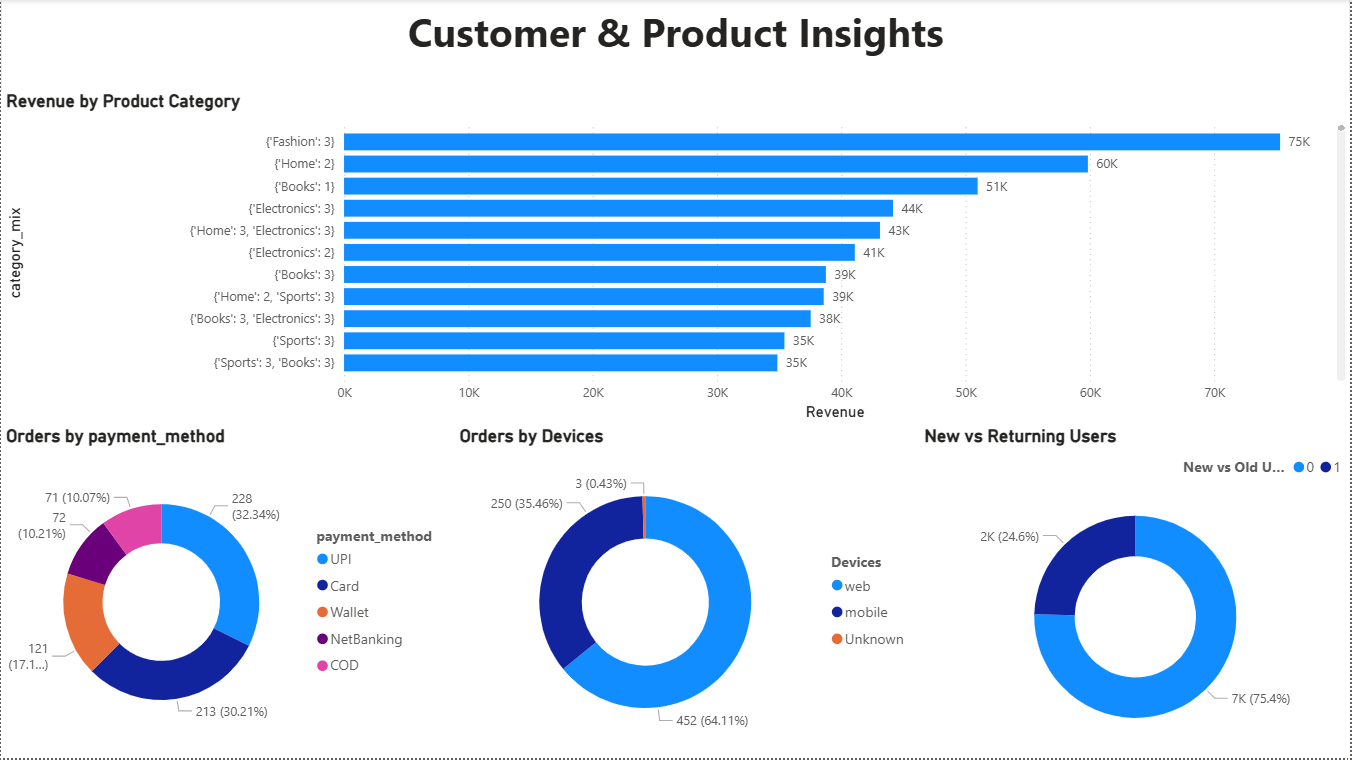

The dashboard page shown, as its layout file describes it:
{"tool":"powerbi","page":{"name":"Customer & Product Insights","canvas":[1280,720],"ordinal":2},"visuals":[{"type":"textbox","box":[0,0,1279.7,87.9],"z":0},{"type":"clusteredBarChart","title":"Revenue by Product Category","fields":{"Y":["fact_orders.Revenue"],"Category":["fact_orders.category_mix"]},"box":[0,87.3,1279.7,317.4],"z":1000},{"type":"donutChart","title":"Orders by payment_method","fields":{"Y":["fact_orders.Total Orders"],"Category":["fact_orders.payment_method"]},"box":[0,404.7,429.9,315.7],"z":2000},{"type":"donutChart","title":"Orders by Devices","fields":{"Y":["fact_orders.Total Orders"],"Category":["fact_sessions.Devices"]},"box":[429.9,404.7,440,315.7],"z":3000},{"type":"donutChart","title":"New vs Returning Users","fields":{"Category":["fact_sessions.is_new_user"],"Y":["fact_sessions.Total Sessions"]},"box":[870,405,410,315],"z":4000}]}

Visuals, with their boxes in screenshot pixels (x1, y1, x2, y2), scaled from the page's 1280x720 canvas onto the 1352x760 screenshot:
textbox: 0 0 1351 93
"Revenue by Product Category" clusteredBarChart: 0 92 1351 427
"Orders by payment_method" donutChart: 0 427 454 759
"Orders by Devices" donutChart: 454 427 919 759
"New vs Returning Users" donutChart: 919 428 1351 759
